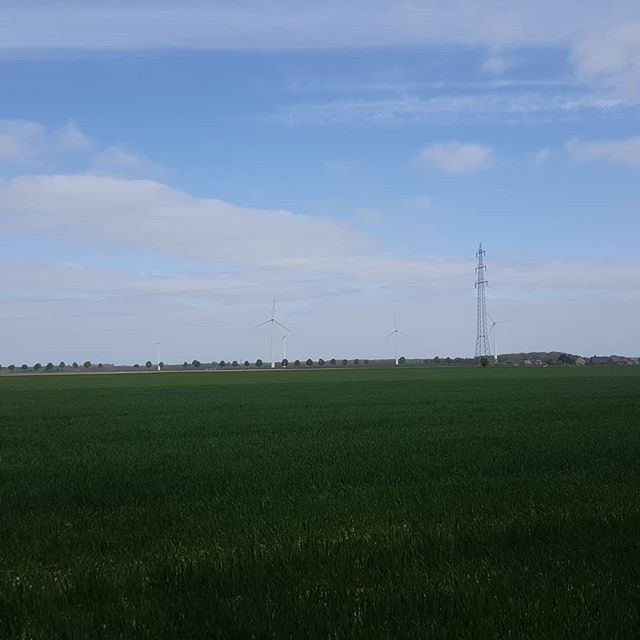grass: (1, 369, 638, 640)
sky: (14, 1, 640, 354)
